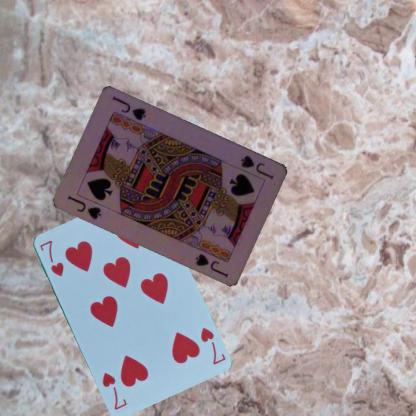7h: (197, 324, 227, 366), (36, 237, 65, 278)
Js: (238, 152, 276, 181), (65, 192, 103, 221)
